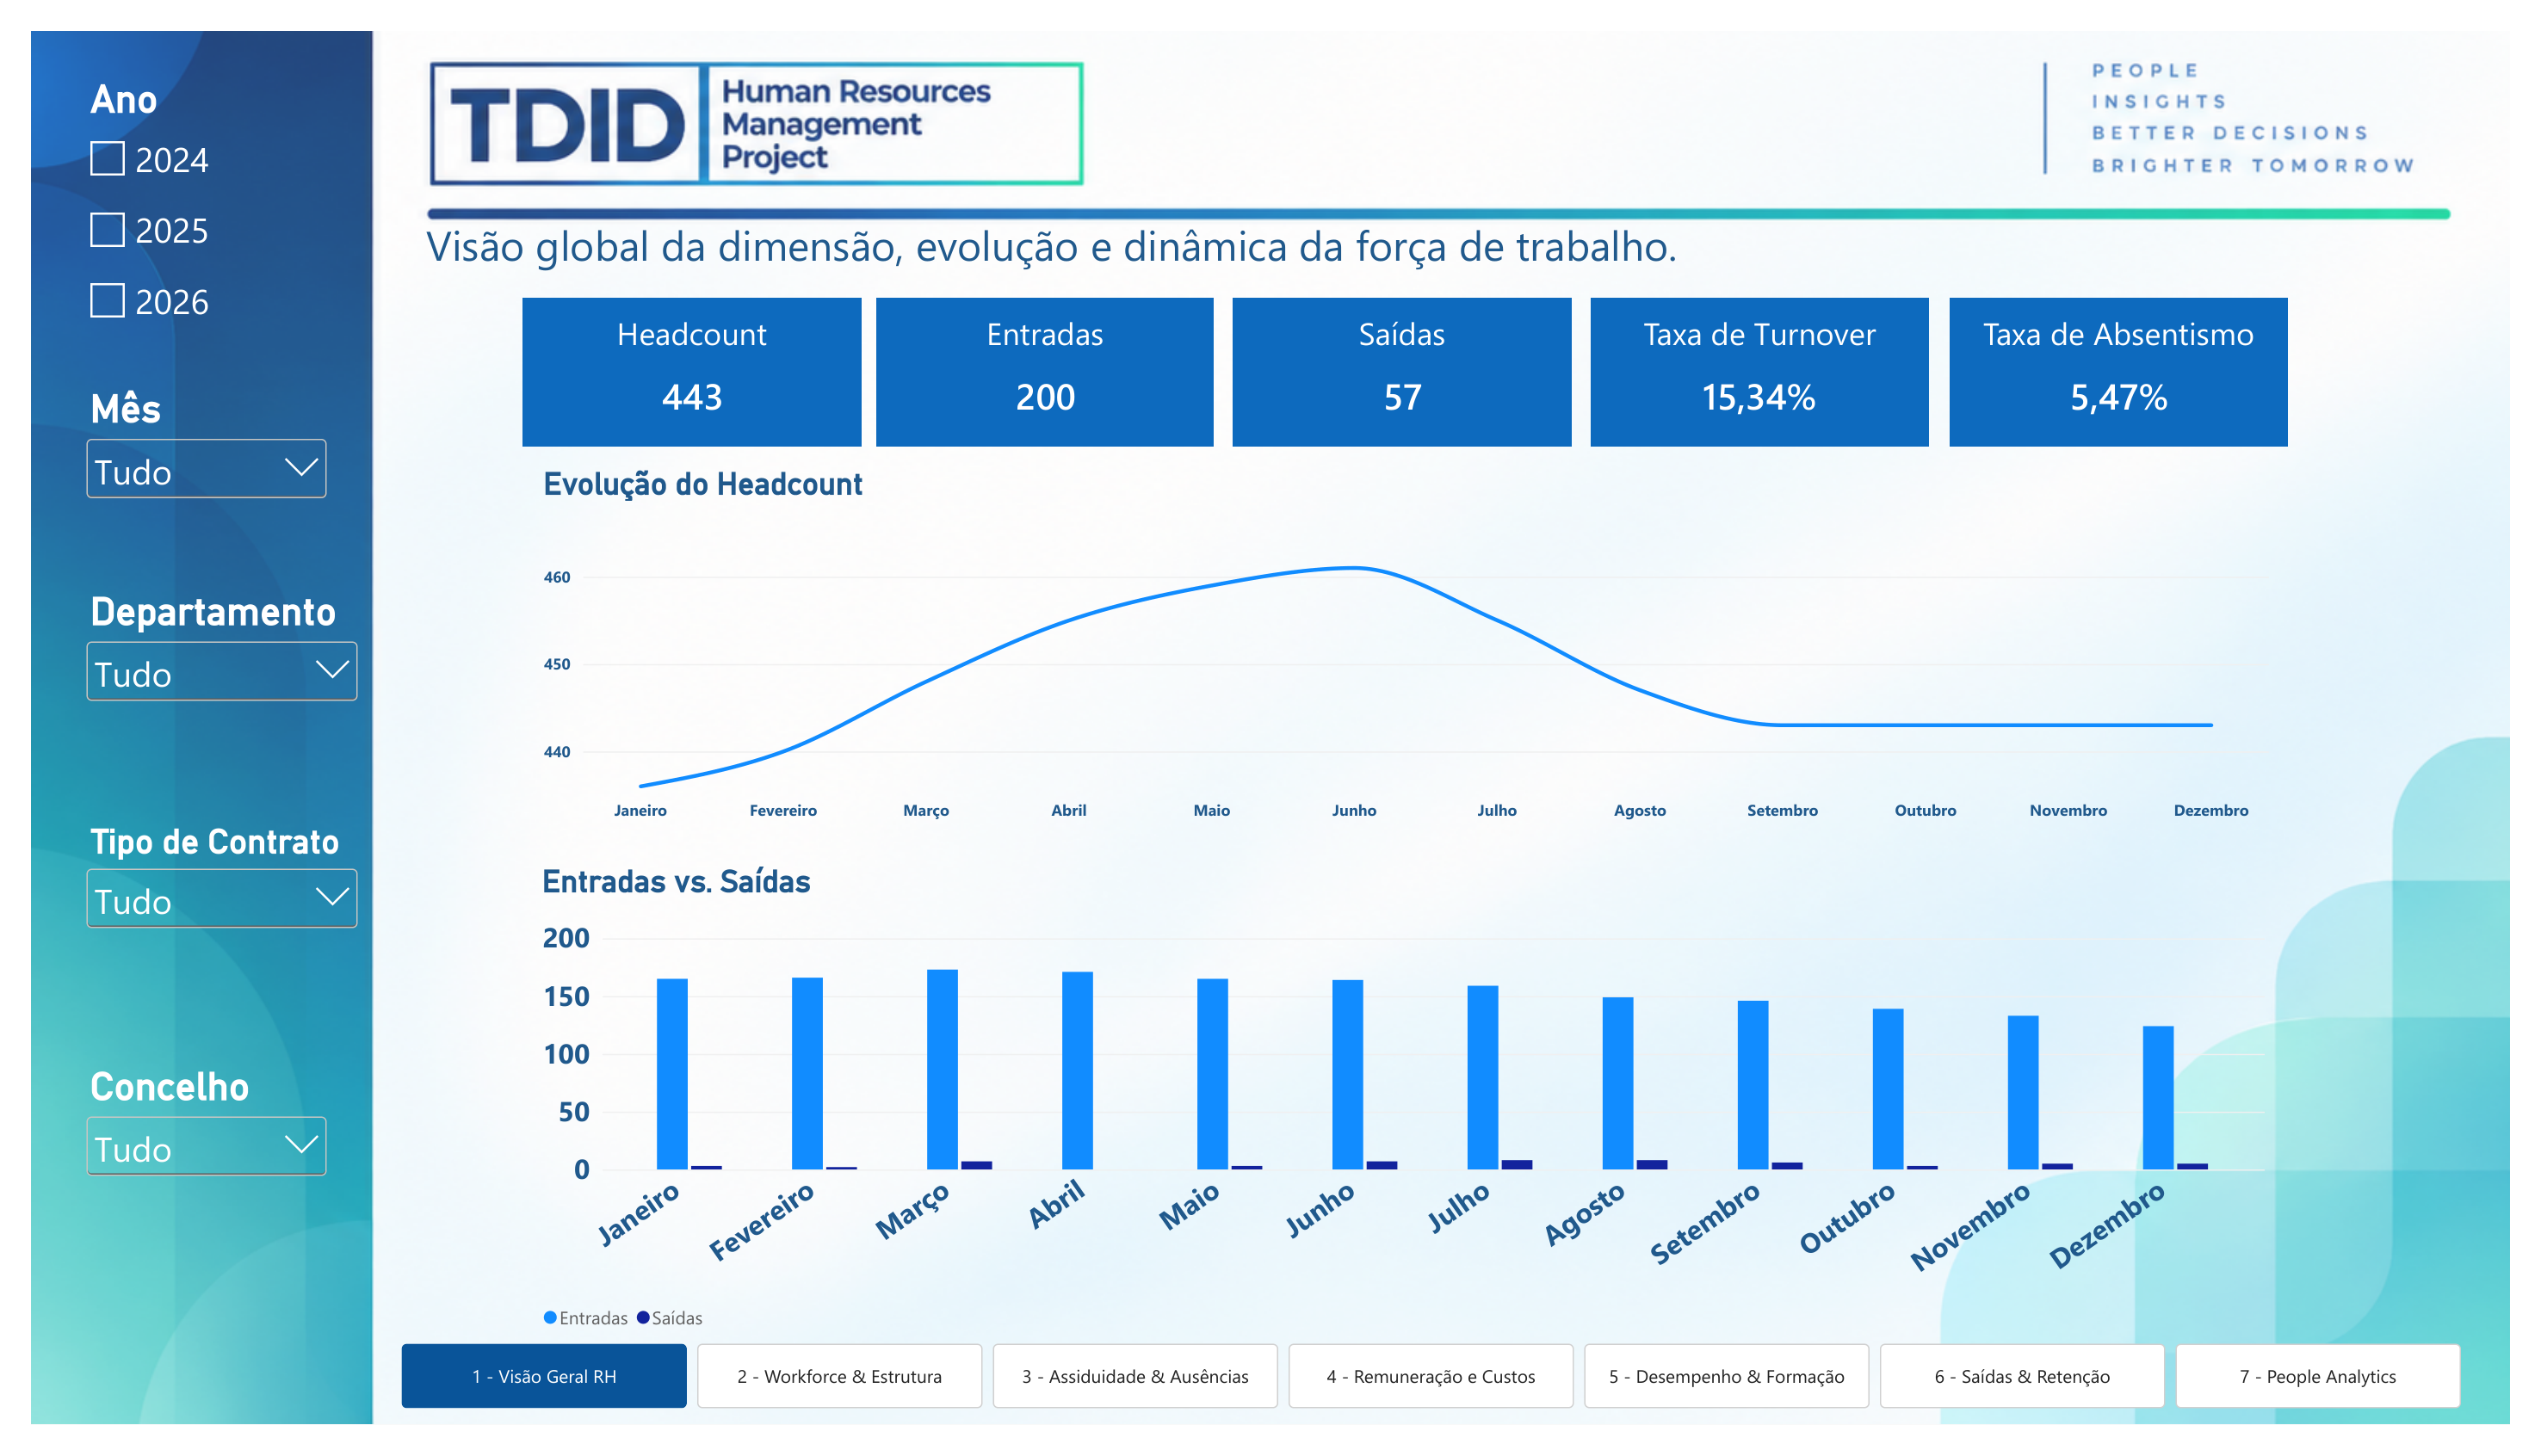

What the dashboard file says about the page in this screenshot:
{"tool":"powerbi","page":{"name":"1 - Visão Geral RH","canvas":[1920,1080],"ordinal":1},"visuals":[{"type":"shape","title":"Colaboradores Ativos","box":[381.5,206.8,261.7,115],"z":0},{"type":"shape","title":"Colaboradores Ativos","box":[931.5,206.8,261.7,115],"z":1000},{"type":"shape","title":"Colaboradores Ativos","box":[654.8,206.8,261.7,115],"z":2000},{"type":"shape","title":"Colaboradores Ativos","box":[1208.1,206.8,261.7,115],"z":3000},{"type":"card","fields":{"Values":["_Medidas_RH.Headcount_Fim_Mes"]},"box":[381.6,208.1,261.7,151.7],"z":4000},{"type":"card","fields":{"Values":["_Medidas_RH.Entradas"]},"box":[655,208.1,261.7,151.7],"z":5000},{"type":"card","fields":{"Values":["_Medidas_RH.Saídas"]},"box":[931.6,208.1,261.7,151.7],"z":6000},{"type":"card","fields":{"Values":["_Medidas_RH.Taxa de Turnover"]},"box":[1208.3,208.1,261.7,151.7],"z":7000},{"type":"slicer","fields":{"Values":["dCalendario.Ano"]},"box":[38.3,35,195.6,217.1],"z":8000},{"type":"slicer","fields":{"Values":["dCalendario.Mes_Nome"]},"box":[38.3,275,195.6,217.1],"z":9000},{"type":"slicer","fields":{"Values":["dDepartamento.Departamento"]},"box":[37.9,432,220.2,108],"z":10000},{"type":"slicer","fields":{"Values":["dTipoContrato.TipoContrato"]},"box":[38.3,611.7,220,216.7],"z":11000},{"type":"slicer","fields":{"Values":["dLocalizacao.Concelho"]},"box":[38.3,800,195.6,217.1],"z":12000},{"type":"textbox","box":[381.5,216.8,261.7,43.3],"z":13000},{"type":"textbox","box":[654.8,216.8,261.7,43.3],"z":14000},{"type":"textbox","box":[931.5,216.8,261.7,43.3],"z":15000},{"type":"textbox","box":[1208.1,216.8,261.7,43.3],"z":16000},{"type":"shape","title":"Colaboradores Ativos","box":[1486.5,206.8,261.7,115],"z":17000},{"type":"card","fields":{"Values":["_Medidas_RH.Taxa de Absentismo"]},"box":[1486.6,208.1,261.7,151.7],"z":18000},{"type":"textbox","box":[1486.5,216.8,261.7,43.3],"z":19000},{"type":"lineChart","title":"Evolução do Headcount","fields":{"Category":["dCalendario.Mes_Nome"],"Y":["_Medidas_RH.Headcount_Fim_Mes"]},"box":[381.5,322.6,1367.4,309.9],"z":20000},{"type":"clusteredColumnChart","title":"Entradas vs. Saídas","fields":{"Category":["dCalendario.Mes_Nome"],"Y":["_Medidas_RH.Entradas","_Medidas_RH.Saídas"]},"box":[380.1,631.1,1366,395.5],"z":21000},{"type":"pageNavigator","box":[286.7,1016.7,1600,50],"z":22000},{"type":"textbox","box":[305.7,143.1,1561,120.6],"z":22001}]}

Visuals, with their boxes in screenshot pixels (x1, y1, x2, y2), scaled from the page's 1920x1080 canvas onto the 2541x1456 screenshot:
"Colaboradores Ativos" shape: [left=505, top=279, right=851, bottom=434]
"Colaboradores Ativos" shape: [left=1233, top=279, right=1580, bottom=434]
"Colaboradores Ativos" shape: [left=867, top=279, right=1213, bottom=434]
"Colaboradores Ativos" shape: [left=1598, top=279, right=1945, bottom=434]
card - _Medidas_RH.Headcount_Fim_Mes: [left=505, top=281, right=851, bottom=485]
card - _Medidas_RH.Entradas: [left=867, top=281, right=1213, bottom=485]
card - _Medidas_RH.Saídas: [left=1233, top=281, right=1580, bottom=485]
card - _Medidas_RH.Taxa de Turnover: [left=1599, top=281, right=1945, bottom=485]
slicer - dCalendario.Ano: [left=51, top=47, right=310, bottom=340]
slicer - dCalendario.Mes_Nome: [left=51, top=371, right=310, bottom=663]
slicer - dDepartamento.Departamento: [left=50, top=583, right=342, bottom=728]
slicer - dTipoContrato.TipoContrato: [left=51, top=824, right=342, bottom=1117]
slicer - dLocalizacao.Concelho: [left=51, top=1078, right=310, bottom=1371]
textbox: [left=505, top=293, right=851, bottom=350]
textbox: [left=867, top=293, right=1213, bottom=350]
textbox: [left=1233, top=293, right=1580, bottom=350]
textbox: [left=1598, top=293, right=1945, bottom=350]
"Colaboradores Ativos" shape: [left=1967, top=279, right=2314, bottom=434]
card - _Medidas_RH.Taxa de Absentismo: [left=1968, top=281, right=2314, bottom=485]
textbox: [left=1967, top=293, right=2314, bottom=350]
"Evolução do Headcount" lineChart: [left=505, top=435, right=2315, bottom=853]
"Entradas vs. Saídas" clusteredColumnChart: [left=503, top=851, right=2311, bottom=1384]
pageNavigator: [left=380, top=1371, right=2497, bottom=1438]
textbox: [left=405, top=193, right=2470, bottom=355]
